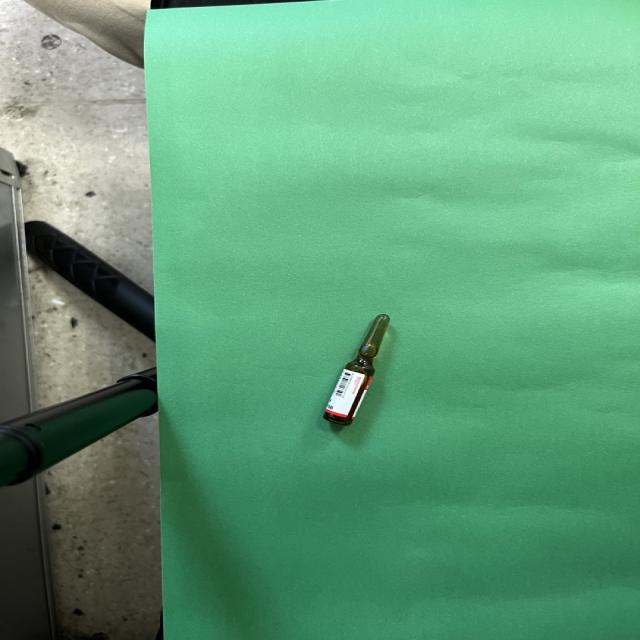Ampoules: (323, 314, 390, 426)
